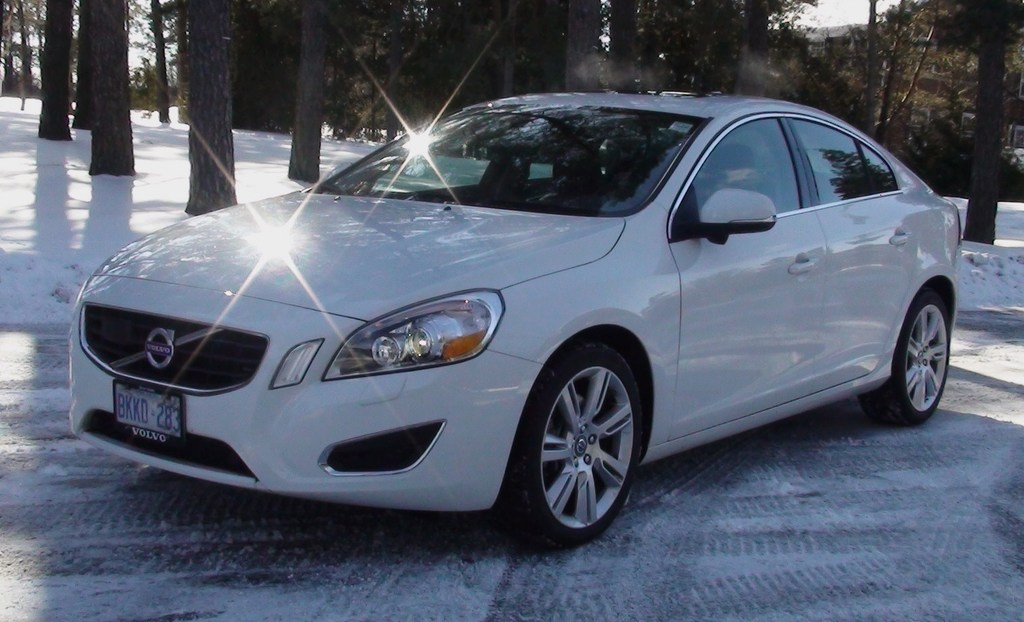Tree: (0, 0, 1024, 245)
